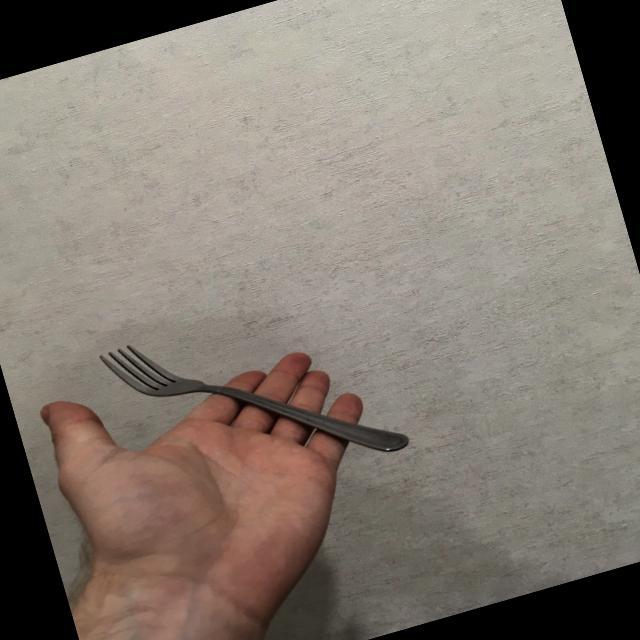fork: (96, 276, 414, 524)
